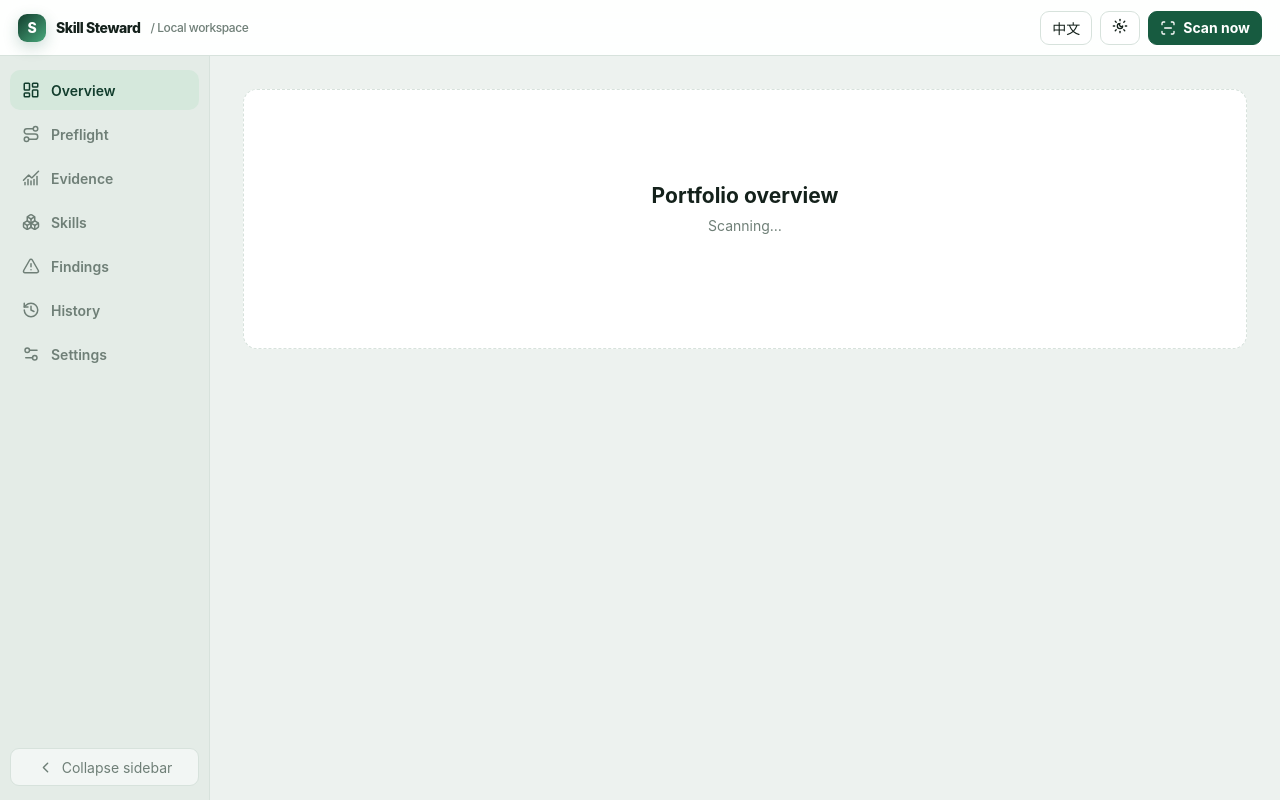
it: dashboard application shell › switches all shell navigation to Chinese and persists the choice
This screenshot has width=1280, height=800.
expect the link "Overview" is shown: met, box [10,70,199,110]
Click the button "中文" at (1066, 28), box [1040,10,1092,44]
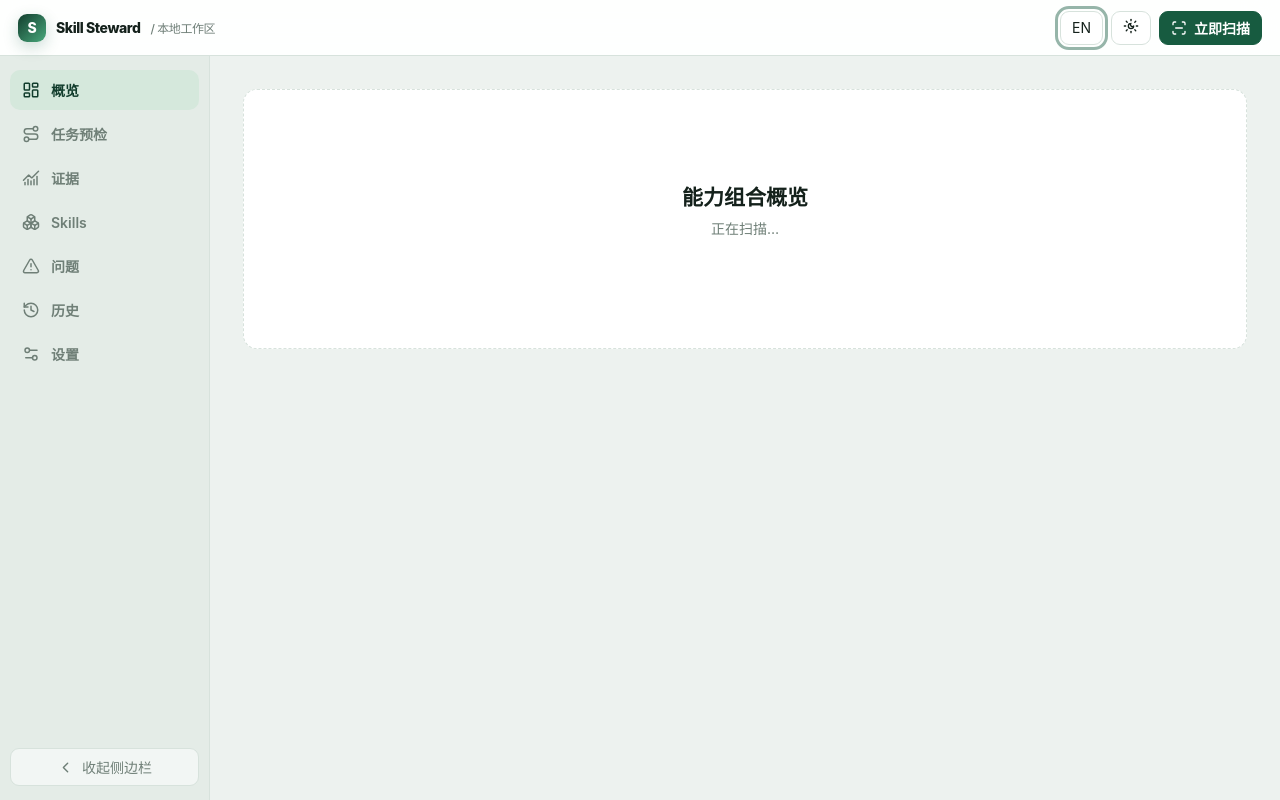
expect the link "概览" is shown: met, box [10,70,199,110]
expect the link "任务预检" is shown: met, box [22,125,107,143]
